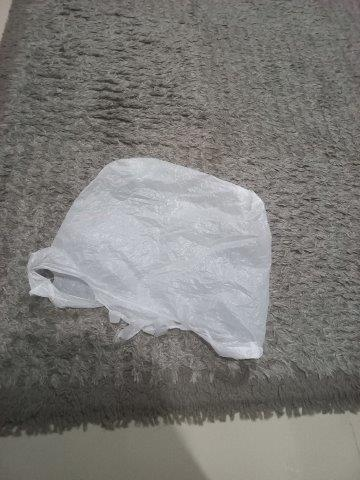plastik: (26, 155, 270, 363)
